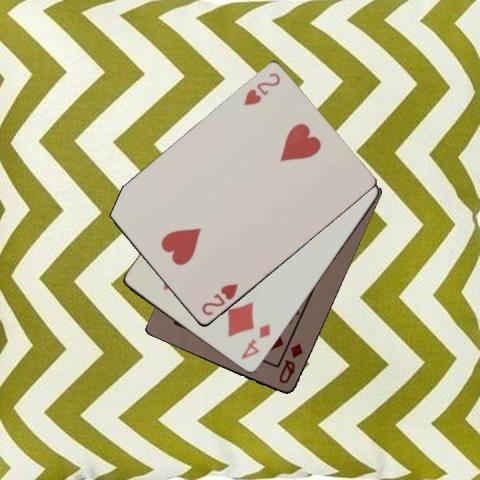2h: (241, 70, 282, 108), (199, 281, 239, 317)
4d: (237, 322, 272, 361)
Qd: (275, 341, 305, 386)
